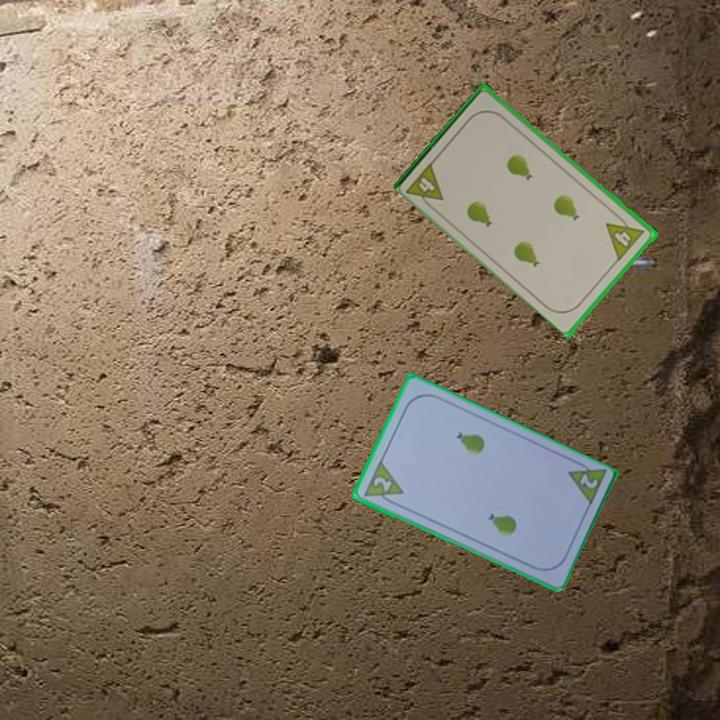2p: (360, 457, 406, 509), (575, 470, 601, 492)
4p: (403, 158, 447, 213), (603, 210, 648, 263)
